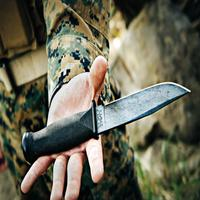knife: (20, 79, 194, 167)
